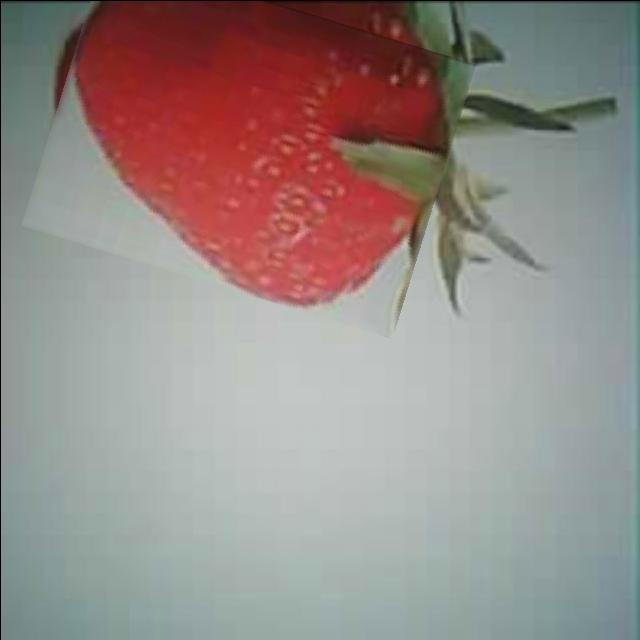strawberry: (38, 0, 459, 312)
